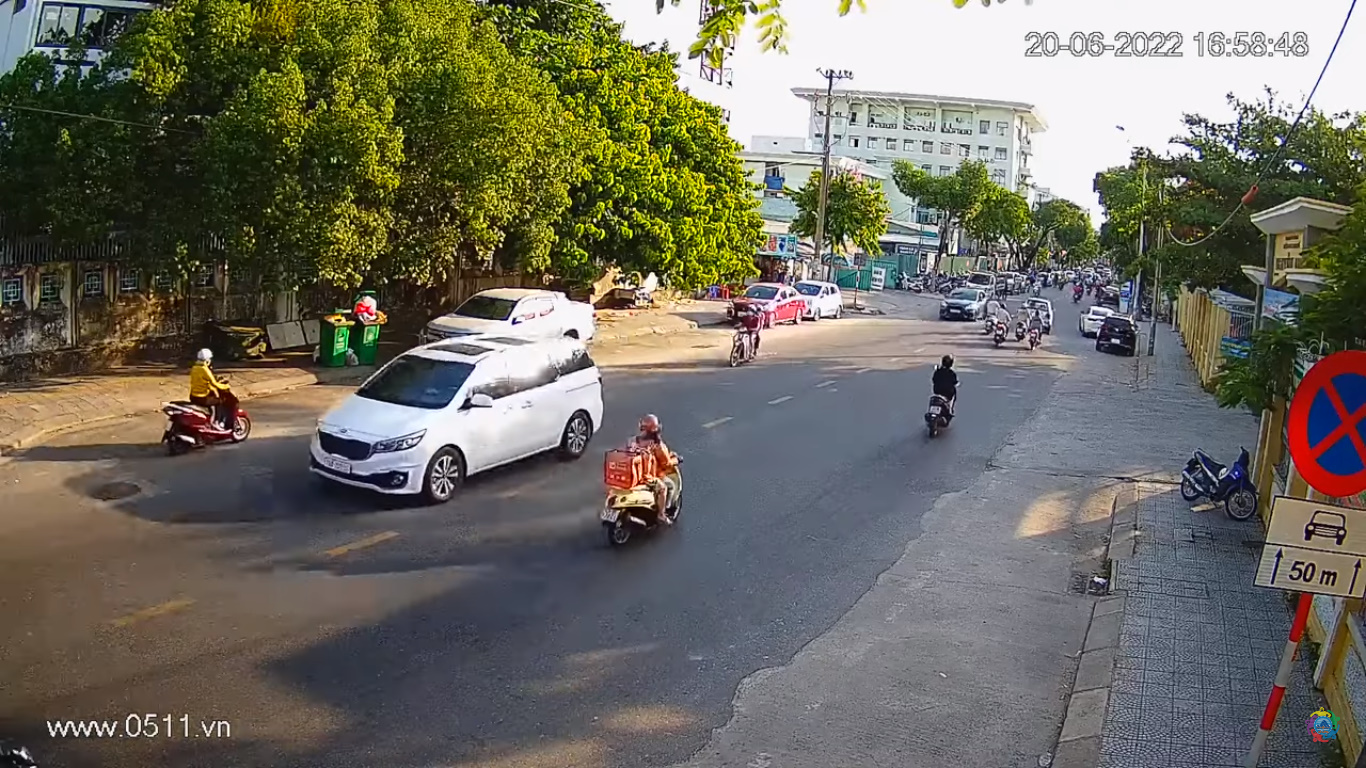car: (305, 344, 606, 499)
